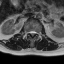CCS_normal: (31, 29, 33, 38)
LFS_stenosis: (36, 30, 38, 36)
LLS_normal: (33, 29, 36, 35)
RFS_stenosis: (26, 29, 29, 35)
RLS_normal: (29, 29, 31, 36)
